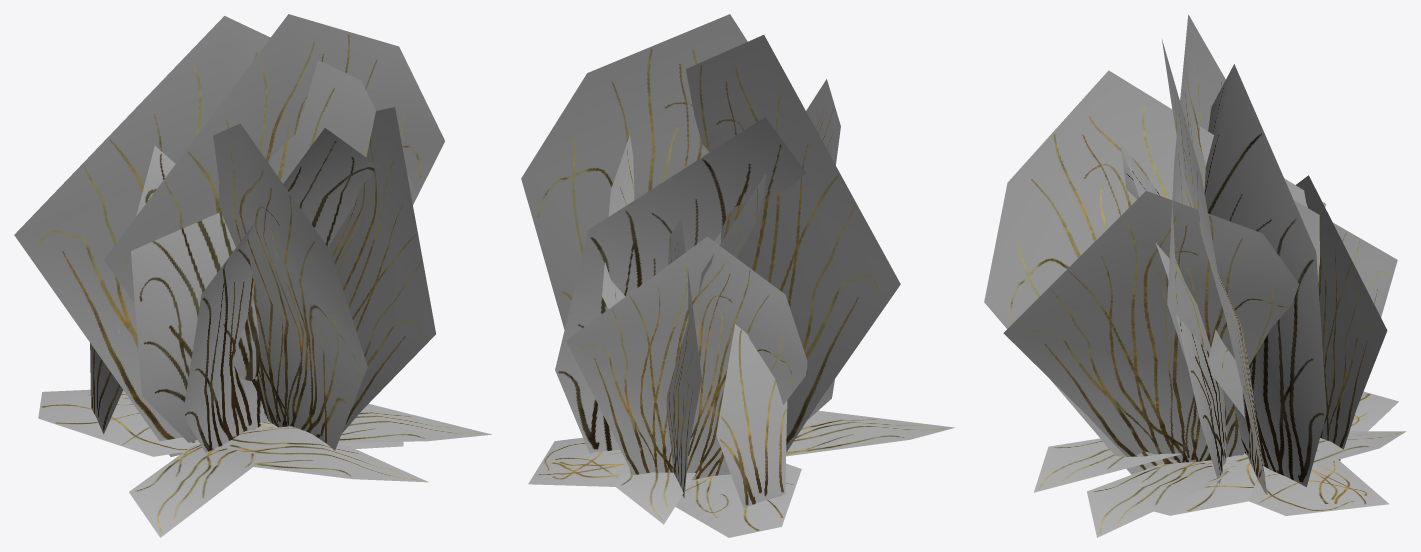
The model's file is SM_Grass_var1.fbx.
3 renders of one model, left to right at view 1: azimuth 30°, elevation 25°; view 2: azimuth 150°, elevation 25°; view 3: azimuth 270°, elevation 25°, orthographic. The views are drawn at different scales.
Visible parts, largest first — view 1: SM_Grass_var1_LOD0; view 2: SM_Grass_var1_LOD0; view 3: SM_Grass_var1_LOD0.
Boxes of the visible parts, left/top/right/bottom form: SM_Grass_var1_LOD0: left=14, top=14, right=491, bottom=537; SM_Grass_var1_LOD0: left=521, top=14, right=954, bottom=537; SM_Grass_var1_LOD0: left=984, top=14, right=1406, bottom=537.
Bounding box in the file's own units: 82.22 × 74.98 × 87.41.
